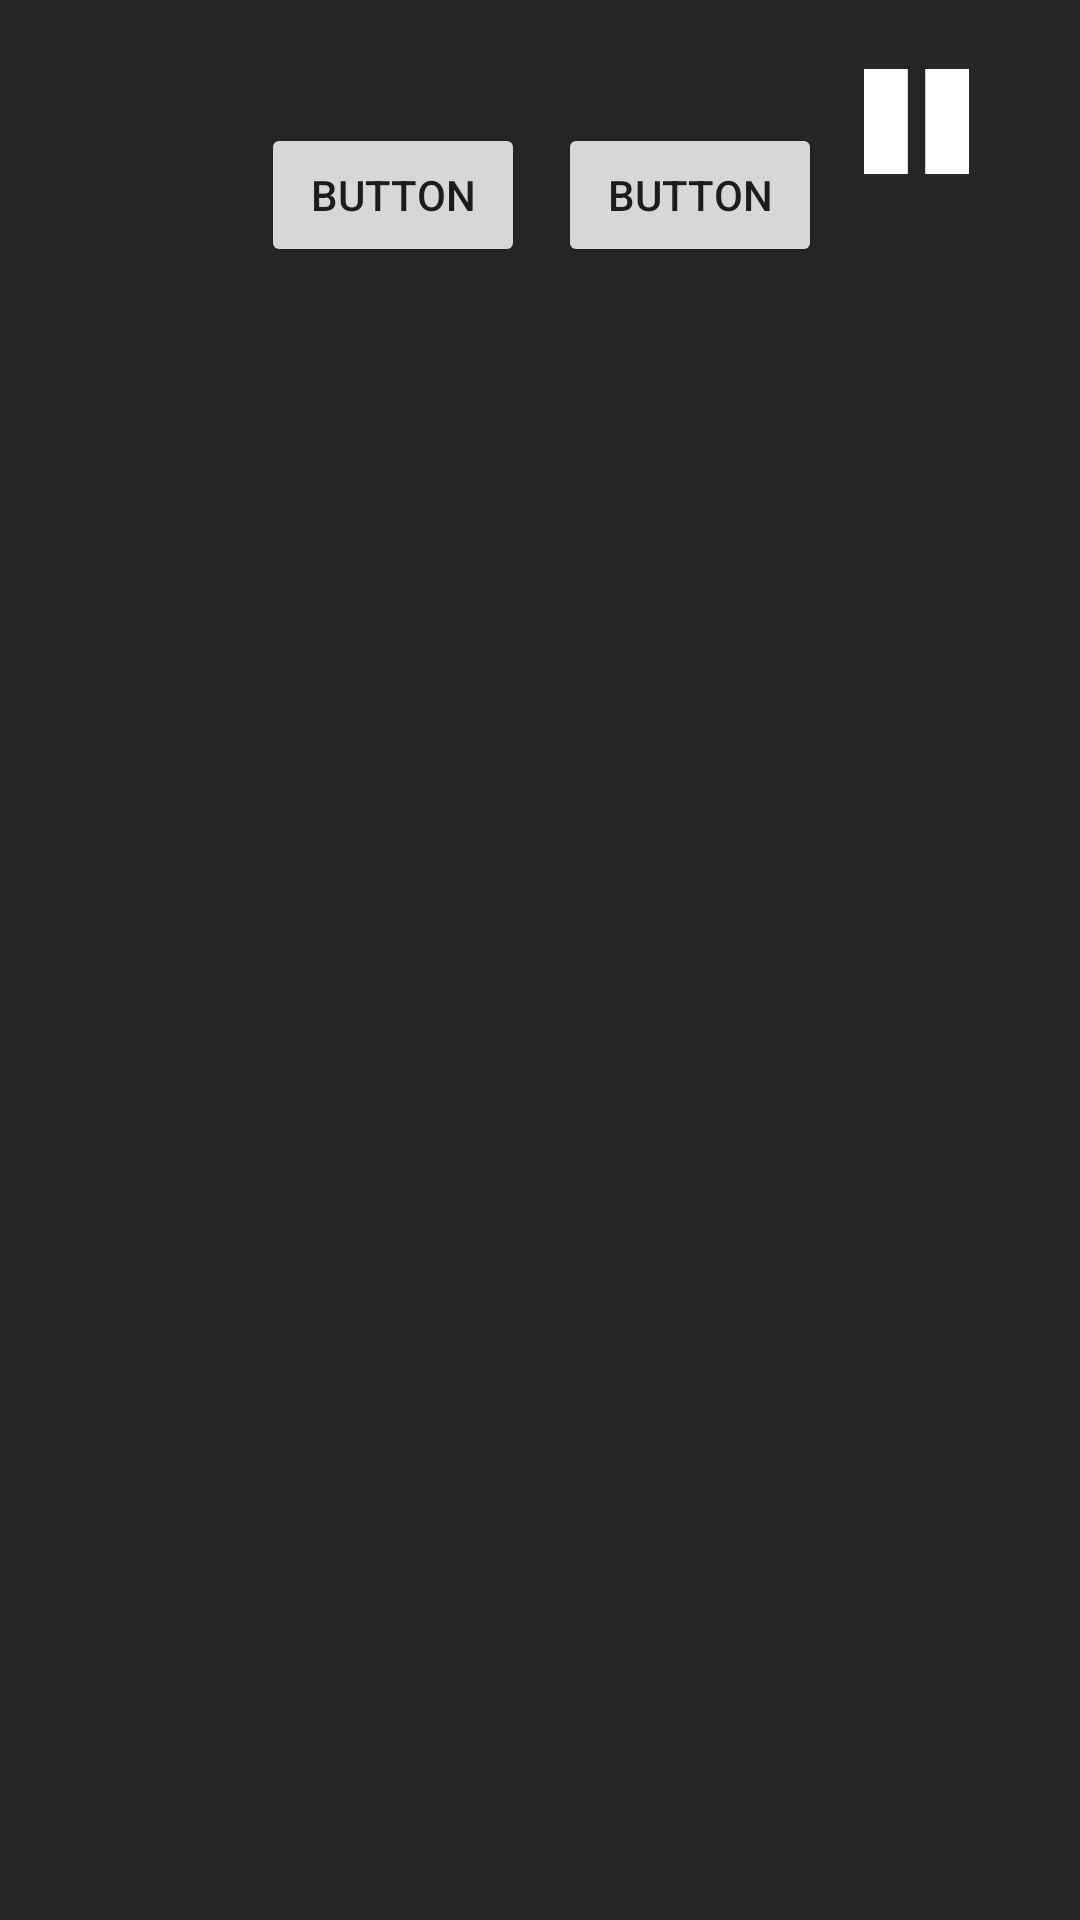

Named icons in this screenshot (1080×1920) and their bounding boxes, (x1=x1, y1=y1, x2=x2, y2=y2):
pause: (x1=864, y1=69, x2=969, y2=174)
